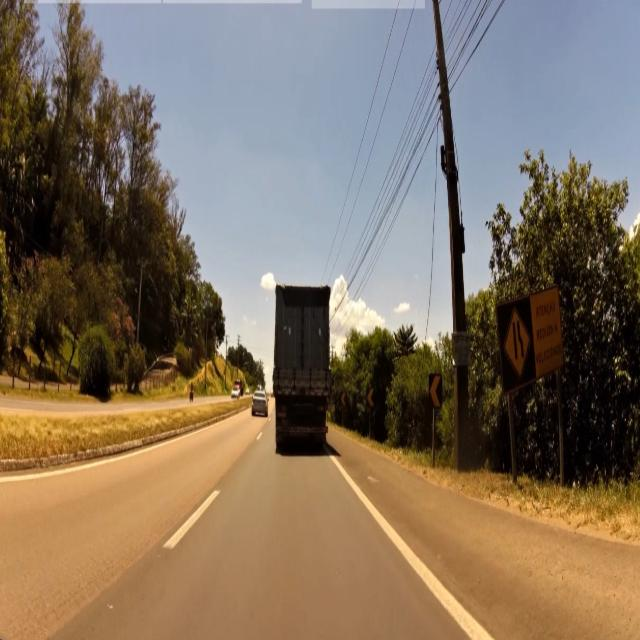A-21c: (503, 307, 531, 385)
